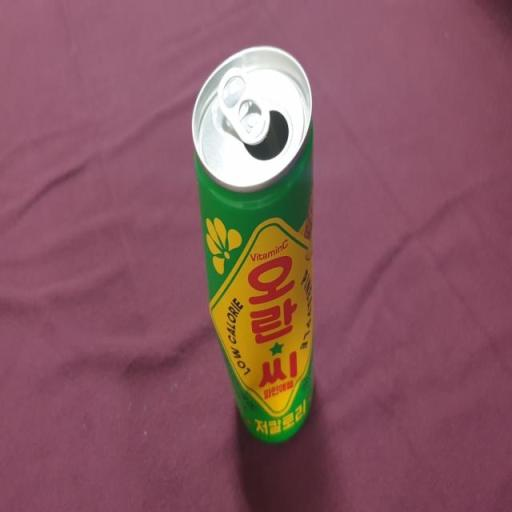metal: (182, 15, 330, 486)
